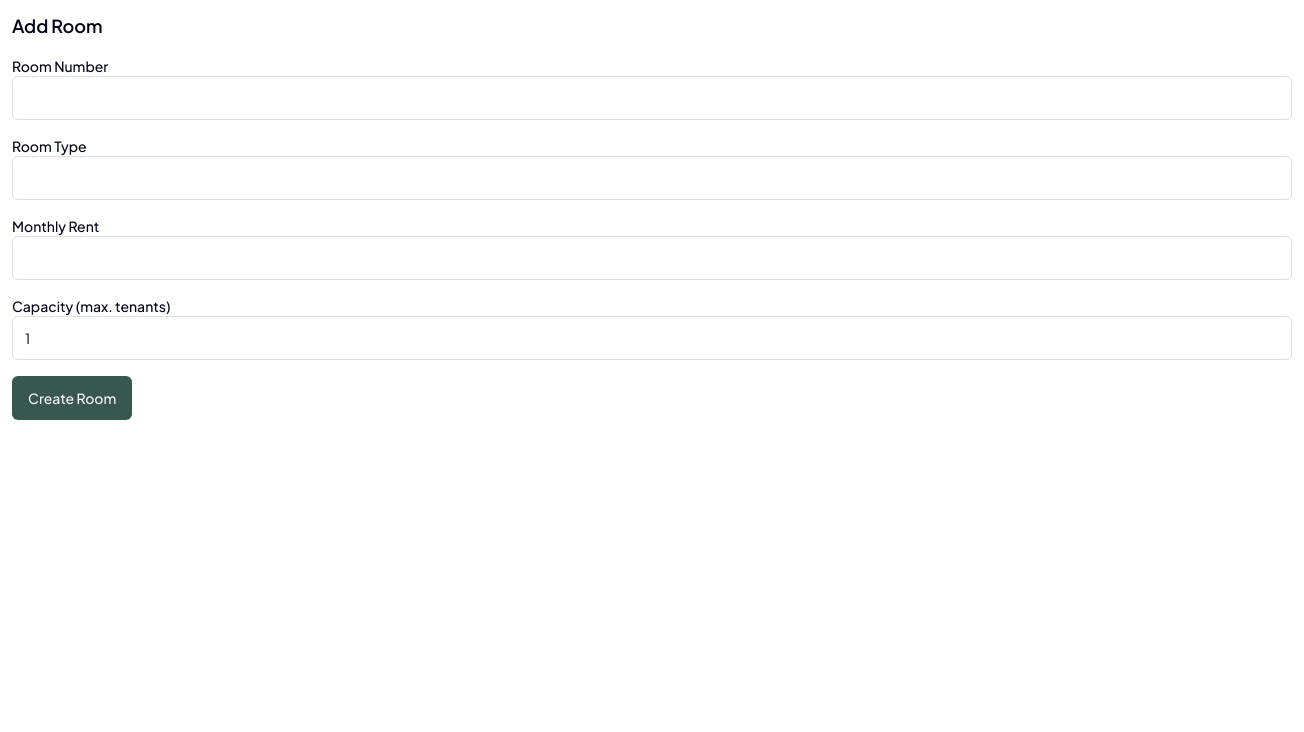
Test case: RoomForm › bad cases › shows validation errors when required fields are empty
The width and height of the screenshot is (1304, 732).
Click the button "Create Room" at (72, 398), box [12, 376, 132, 420]
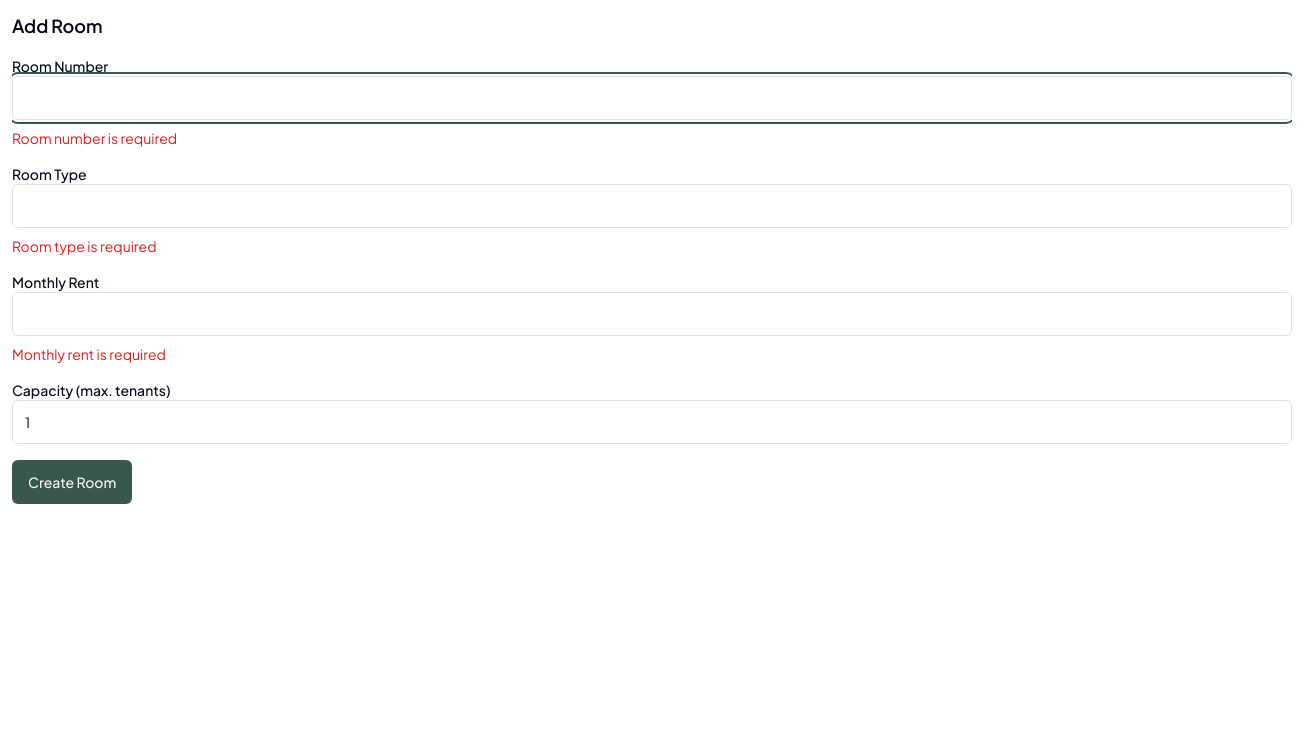
Result: the text "Room number is required" is shown at [12, 129, 177, 147]
Result: the text "Room type is required" is shown at [12, 237, 157, 255]
